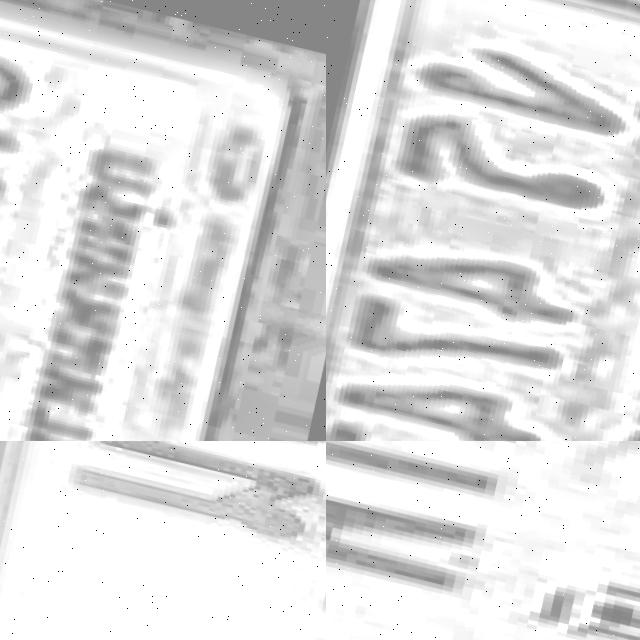license-plate: (326, 0, 640, 441), (0, 0, 303, 441), (0, 441, 326, 640), (326, 441, 640, 640)
